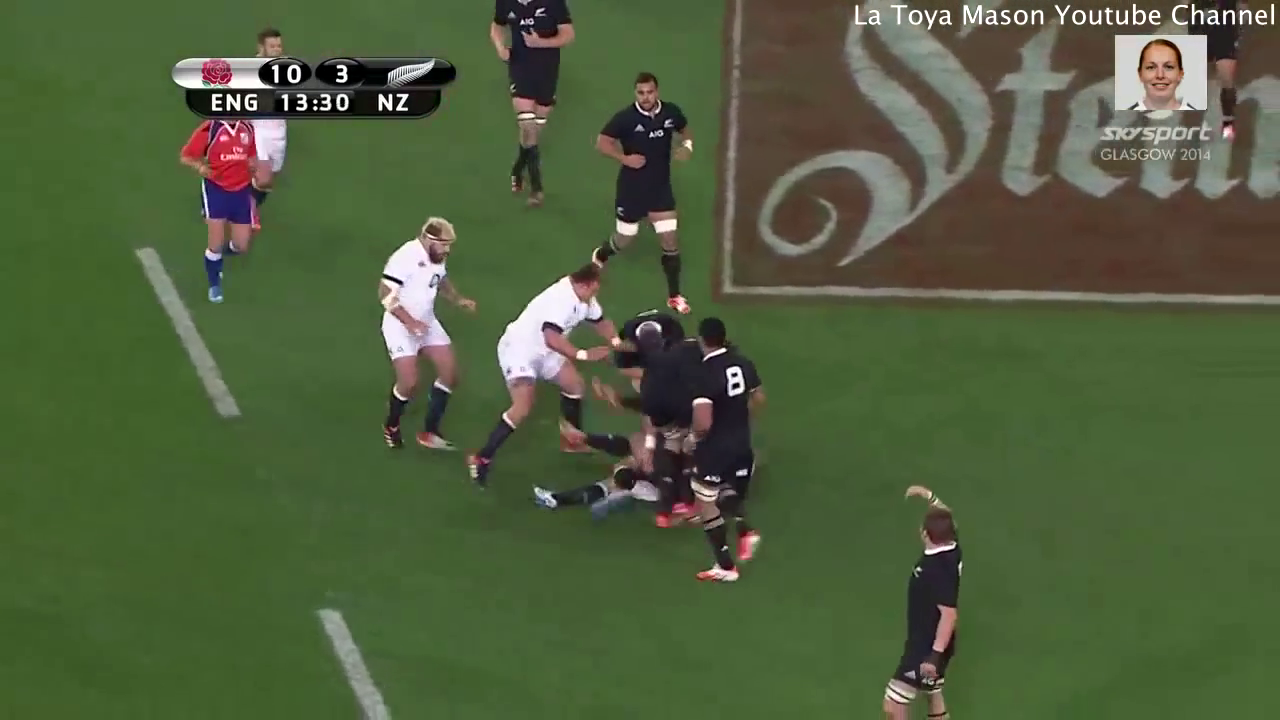maul: (513, 296, 767, 551)
player: (453, 252, 626, 499), (669, 304, 777, 597), (861, 470, 983, 720), (366, 208, 481, 471), (590, 60, 697, 315), (475, 1, 589, 225), (176, 98, 278, 304), (529, 431, 688, 518), (244, 16, 297, 234), (595, 301, 693, 369)
